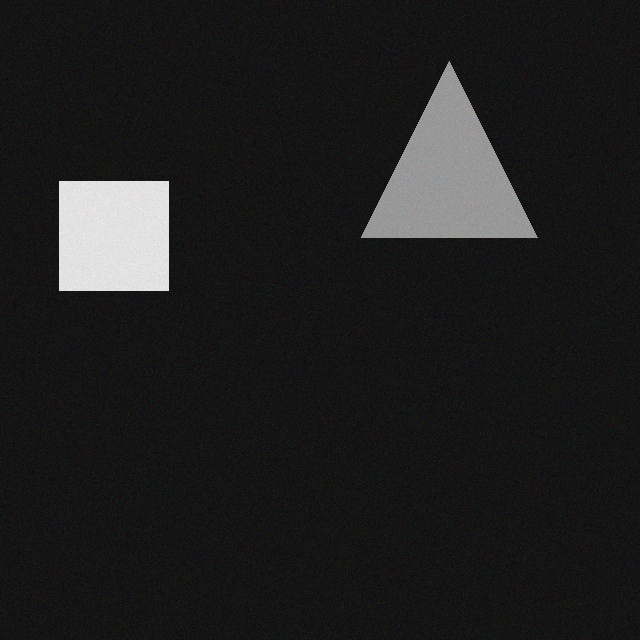square: (50, 166, 159, 275)
triangle: (352, 46, 528, 222)
